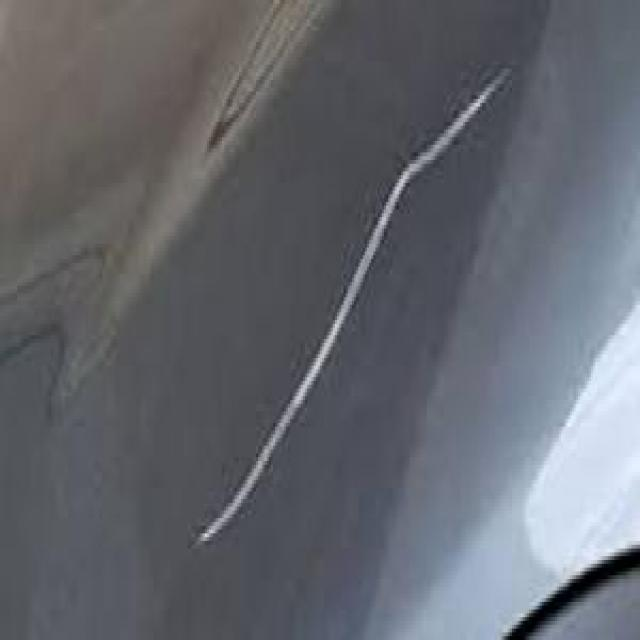scratch: (174, 55, 520, 589)
